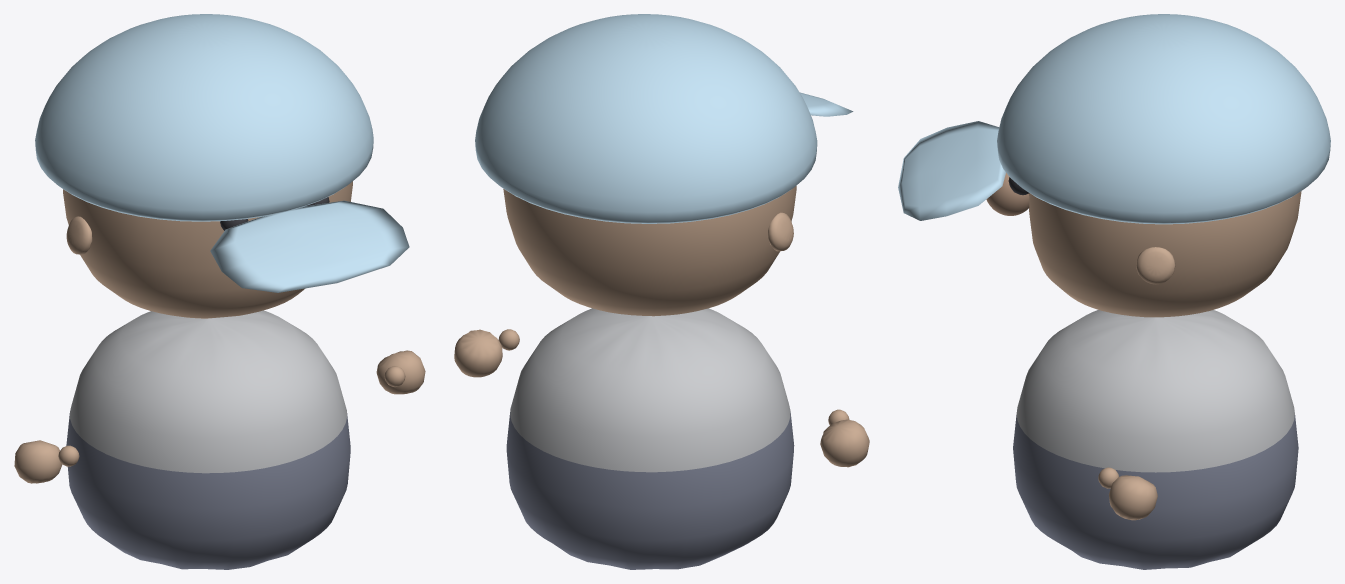
File: Pedestrian_Capguy.fbx
3 renders of one model, left to right at view 1: azimuth 30°, elevation 25°; view 2: azimuth 150°, elevation 25°; view 3: azimuth 270°, elevation 25°, orthographic.
Parts seen in each view (by area): view 1: PedBody, PedHat, PedHead, PedVisor, PedHandL, PedHandR, PedEarL; view 2: PedBody, PedHat, PedHead, PedHandR, PedHandL, PedEarL, PedVisor; view 3: PedBody, PedHat, PedHead, PedVisor, PedHandR, PedEarR, PedNose.
Boxes of the visible parts, bbox=[...] form: PedBody: bbox=[66, 310, 350, 569]; PedHat: bbox=[35, 14, 373, 221]; PedHead: bbox=[63, 181, 352, 318]; PedVisor: bbox=[210, 200, 409, 292]; PedHandL: bbox=[14, 440, 62, 483]; PedHandR: bbox=[376, 350, 425, 394]; PedEarL: bbox=[66, 216, 92, 254]; PedBody: bbox=[506, 308, 794, 569]; PedHat: bbox=[475, 14, 817, 223]; PedHead: bbox=[503, 186, 796, 316]; PedHandR: bbox=[454, 329, 502, 377]; PedHandL: bbox=[820, 419, 869, 467]; PedEarL: bbox=[767, 212, 793, 251]; PedVisor: bbox=[799, 92, 853, 116]; PedBody: bbox=[1013, 310, 1298, 569]; PedHat: bbox=[997, 14, 1330, 224]; PedHead: bbox=[1029, 191, 1301, 317]; PedVisor: bbox=[898, 121, 1005, 220]; PedHandR: bbox=[1108, 475, 1157, 520]; PedEarR: bbox=[1136, 247, 1175, 284]; PedNose: bbox=[986, 173, 1029, 215].
Size of the model in its own units: 115 by 136 by 106.
